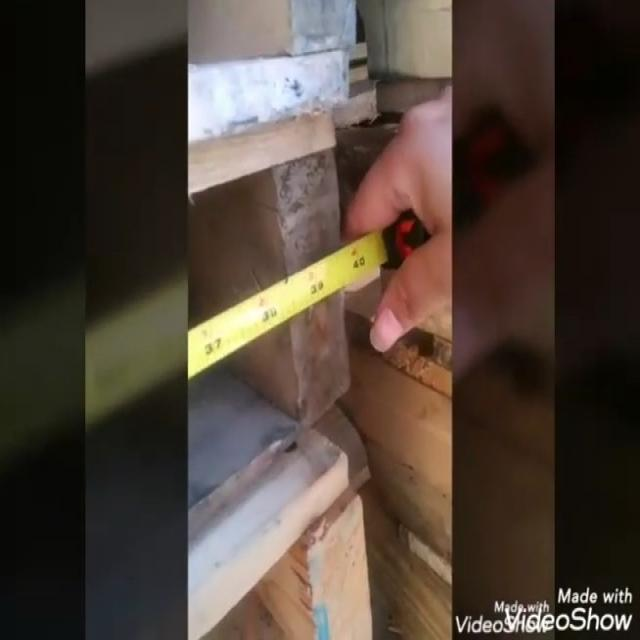Palette: (183, 93, 372, 640)
